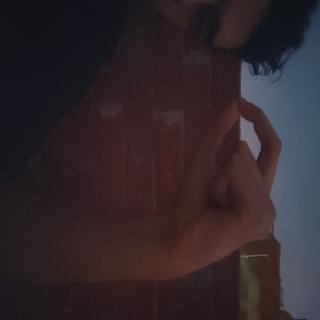FAA: (68, 44, 217, 215)
